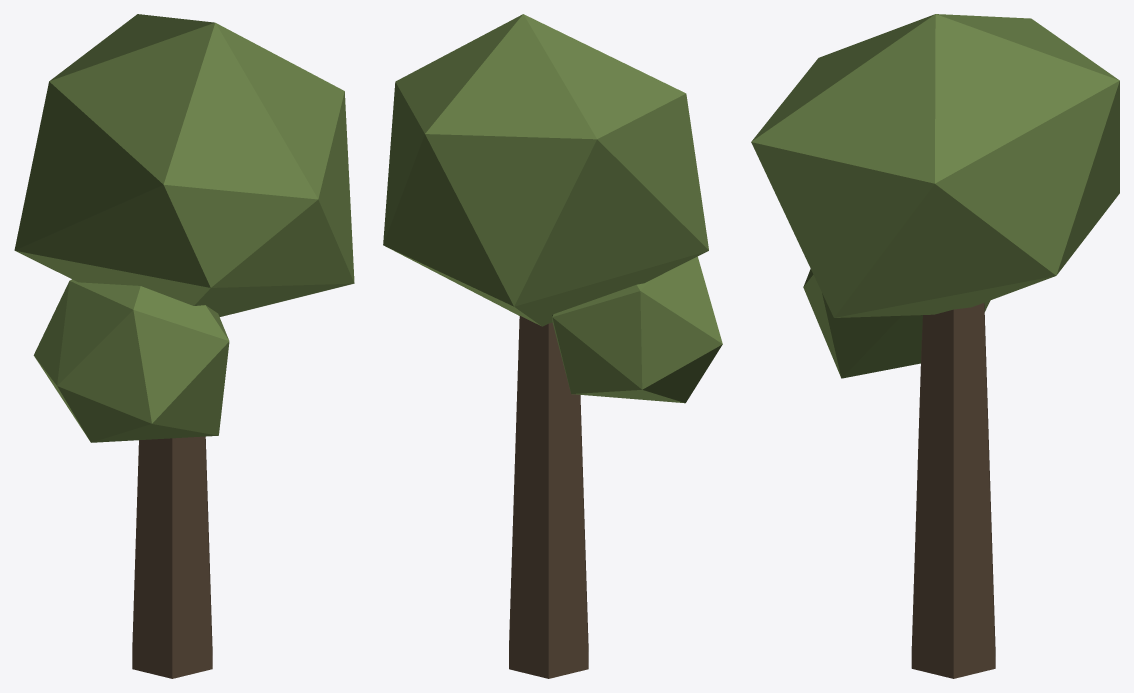
Rendered from SM_Env_Generic_Tree_05.glb.
3 renders of one model, left to right at view 1: azimuth 30°, elevation 25°; view 2: azimuth 150°, elevation 25°; view 3: azimuth 270°, elevation 25°, orthographic. The views are drawn at different scales.
Visible parts, largest first — view 1: SM_Env_Generic_Tree_05; view 2: SM_Env_Generic_Tree_05; view 3: SM_Env_Generic_Tree_05.
Boxes of the visible parts, x1=… form: SM_Env_Generic_Tree_05: x1=14, y1=14, x2=354, y2=678; SM_Env_Generic_Tree_05: x1=383, y1=14, x2=722, y2=678; SM_Env_Generic_Tree_05: x1=751, y1=14, x2=1119, y2=678.
Bounding box in the file's own units: 0.5153 × 0.9674 × 0.4885.
Materials: 1 (1 with a texture image).
